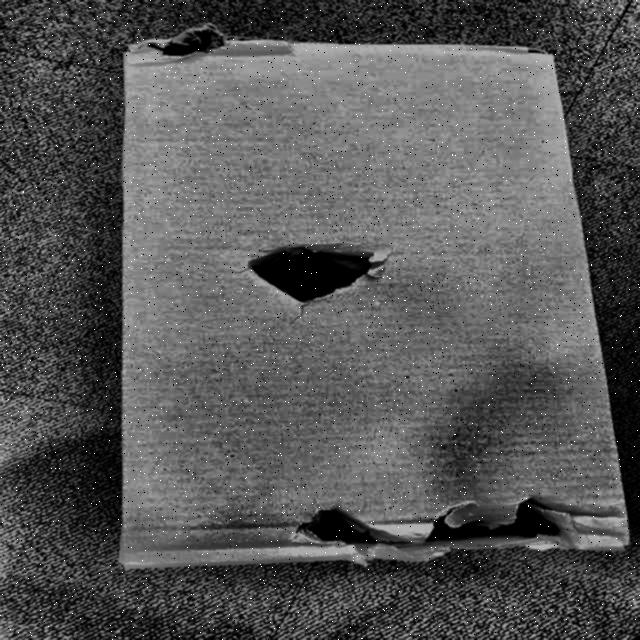box: (108, 28, 637, 579)
hole: (287, 491, 585, 559), (239, 237, 389, 314)
